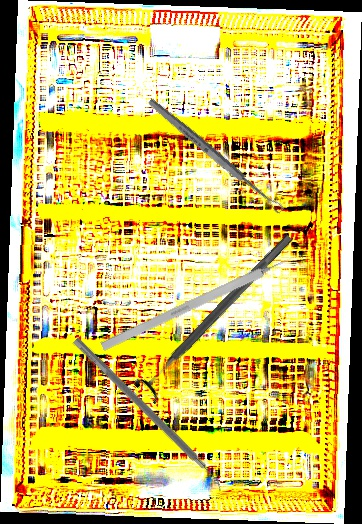Fixation Ring: (131, 225, 303, 406)
Hook Surgical: (100, 250, 300, 352)
Spatula Surgical: (66, 336, 229, 496)
Surgical Spoon: (146, 96, 285, 216)
